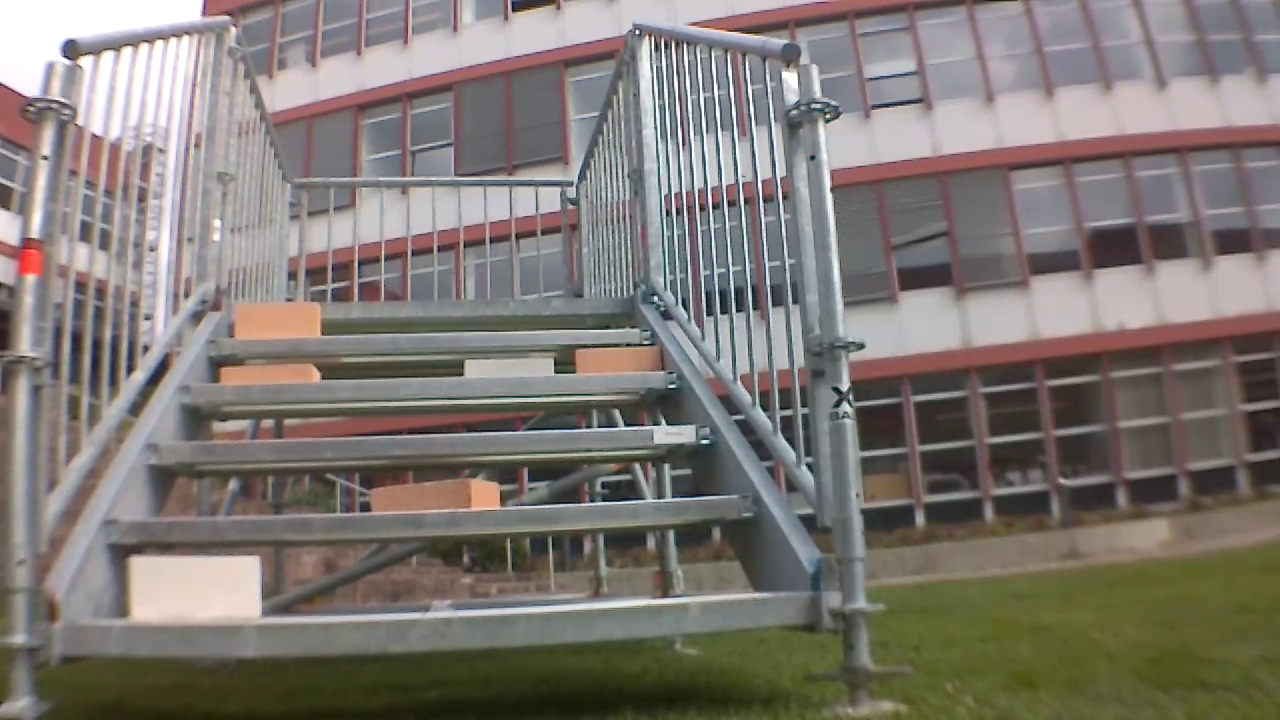brick: (124, 555, 262, 617), (368, 478, 501, 517), (230, 300, 324, 336), (570, 344, 665, 372), (213, 366, 324, 385), (465, 358, 552, 379)
edge: (57, 591, 813, 661), (103, 499, 757, 548), (144, 427, 718, 463), (175, 371, 680, 407), (208, 325, 651, 351), (226, 298, 633, 320)
stairs: (0, 17, 875, 697)
steps: (39, 290, 814, 662)
